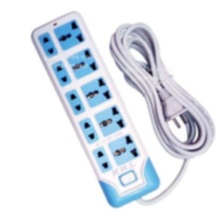three_eye_plug: (28, 9, 164, 210)
